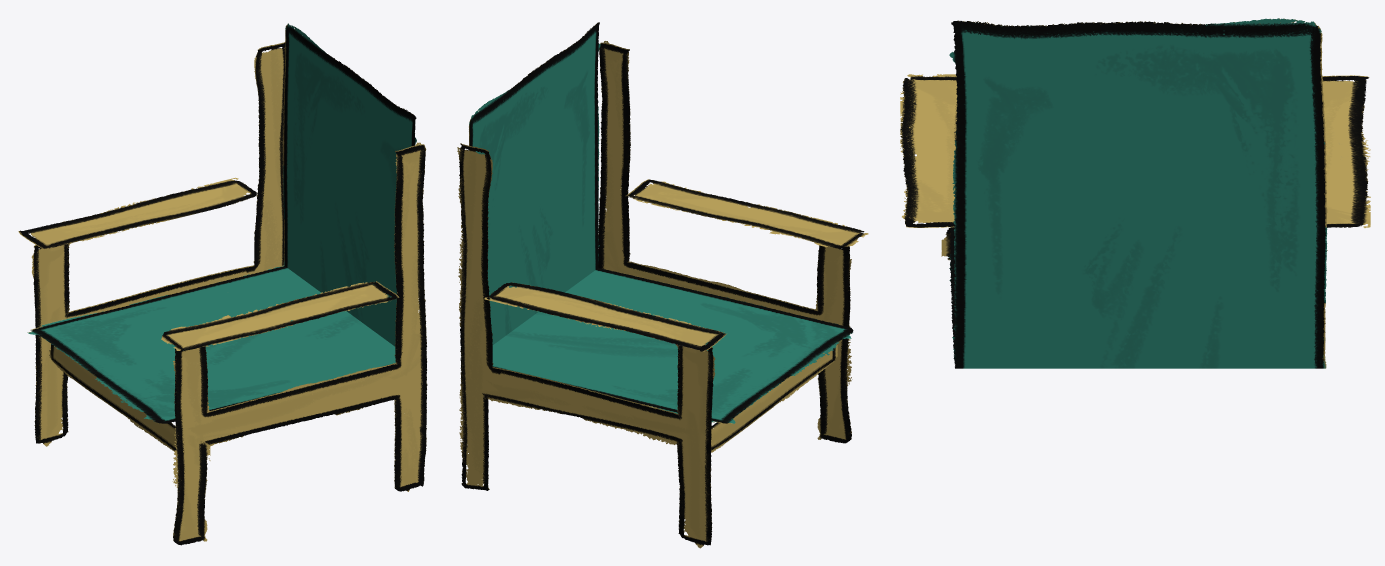
File: MSH_Fauteuil 1.fbx
3 views of the same model, side by side, from view 1: azimuth 30°, elevation 25°; view 2: azimuth 150°, elevation 25°; view 3: azimuth 270°, elevation 25° (orthographic). The views are drawn at different scales.
Parts seen in each view (by area): view 1: MSH_Fauteuil; view 2: MSH_Fauteuil; view 3: MSH_Fauteuil.
Part boxes in pixels (x1=…): MSH_Fauteuil: x1=18, y1=23, x2=427, y2=545; MSH_Fauteuil: x1=457, y1=22, x2=868, y2=548; MSH_Fauteuil: x1=900, y1=18, x2=1370, y2=368.
Size of the model in its own units: 0.9176 by 1.21 by 0.9726.
Materials: 1 (1 with a texture image).
